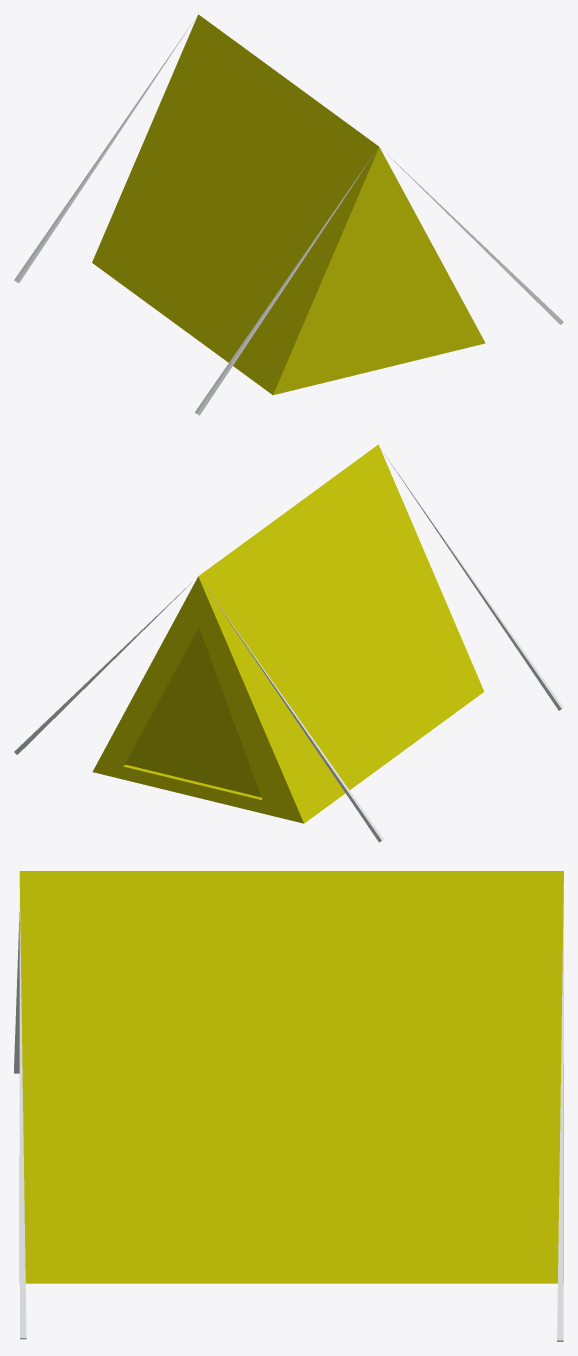
File: Tent.fbx
3 renders of one model, top to bottom at view 1: azimuth 30°, elevation 25°; view 2: azimuth 150°, elevation 25°; view 3: azimuth 270°, elevation 25°, orthographic. The views are drawn at different scales.
Parts seen in each view (by area): view 1: Cube; view 2: Cube; view 3: Cube.
Part boxes in pixels (<box>): Cube: <box>14,14,563,415</box>; Cube: <box>14,444,563,842</box>; Cube: <box>14,871,563,1341</box>.
Bounding box in the file's own units: 348 × 201 × 298.
